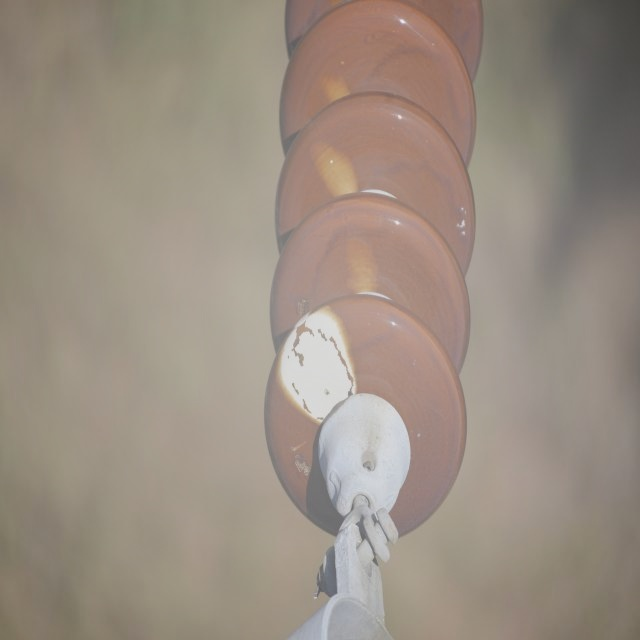insulator: (264, 0, 489, 539)
